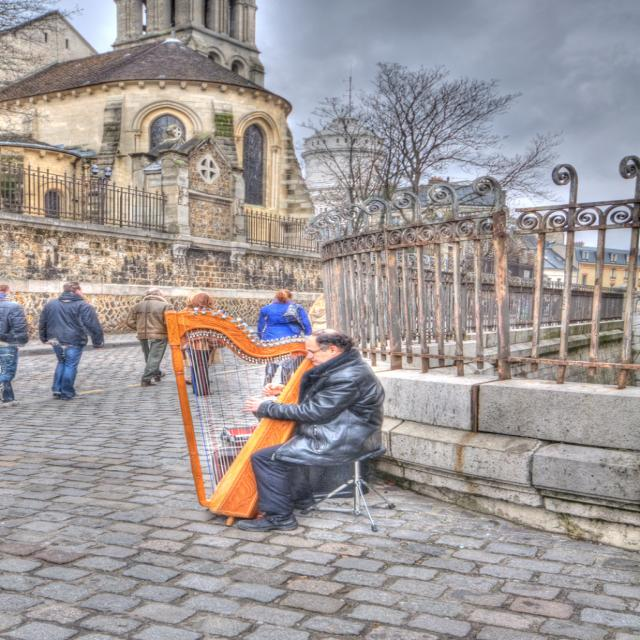harp: (163, 306, 315, 528)
